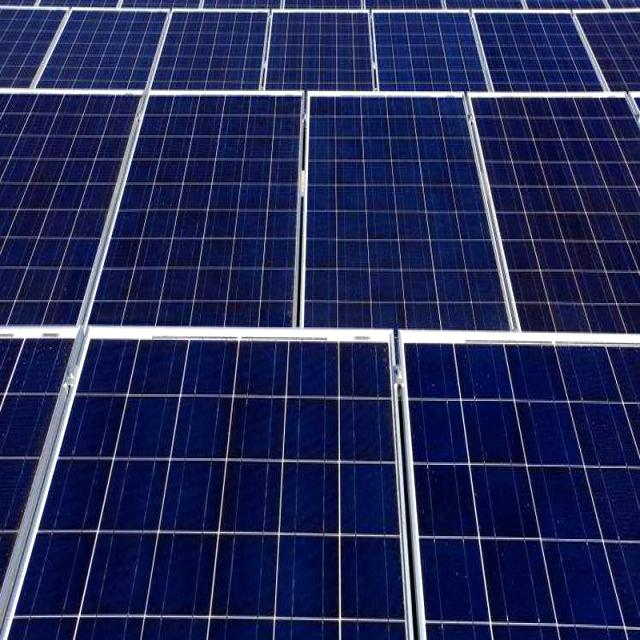crack: (24, 326, 433, 638), (394, 330, 640, 640), (69, 102, 309, 356), (297, 91, 515, 357), (456, 77, 640, 381), (27, 5, 188, 119), (249, 5, 397, 116), (362, 0, 504, 112), (462, 8, 608, 116), (140, 0, 276, 115)
